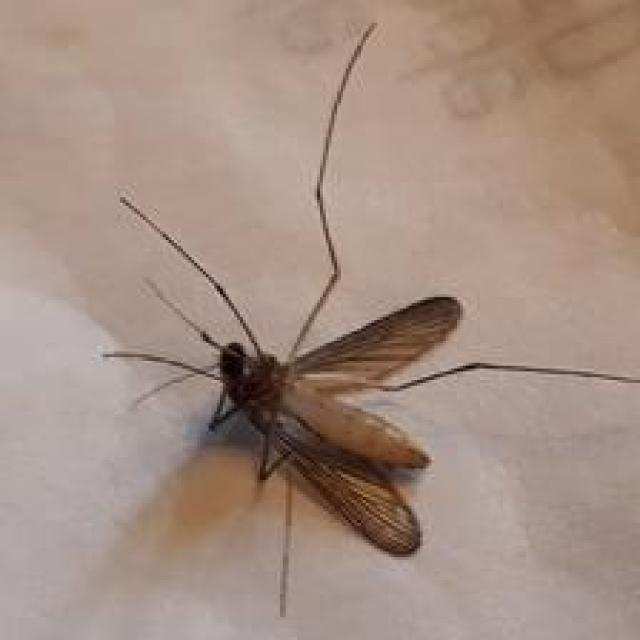Culex: (100, 20, 640, 617)
